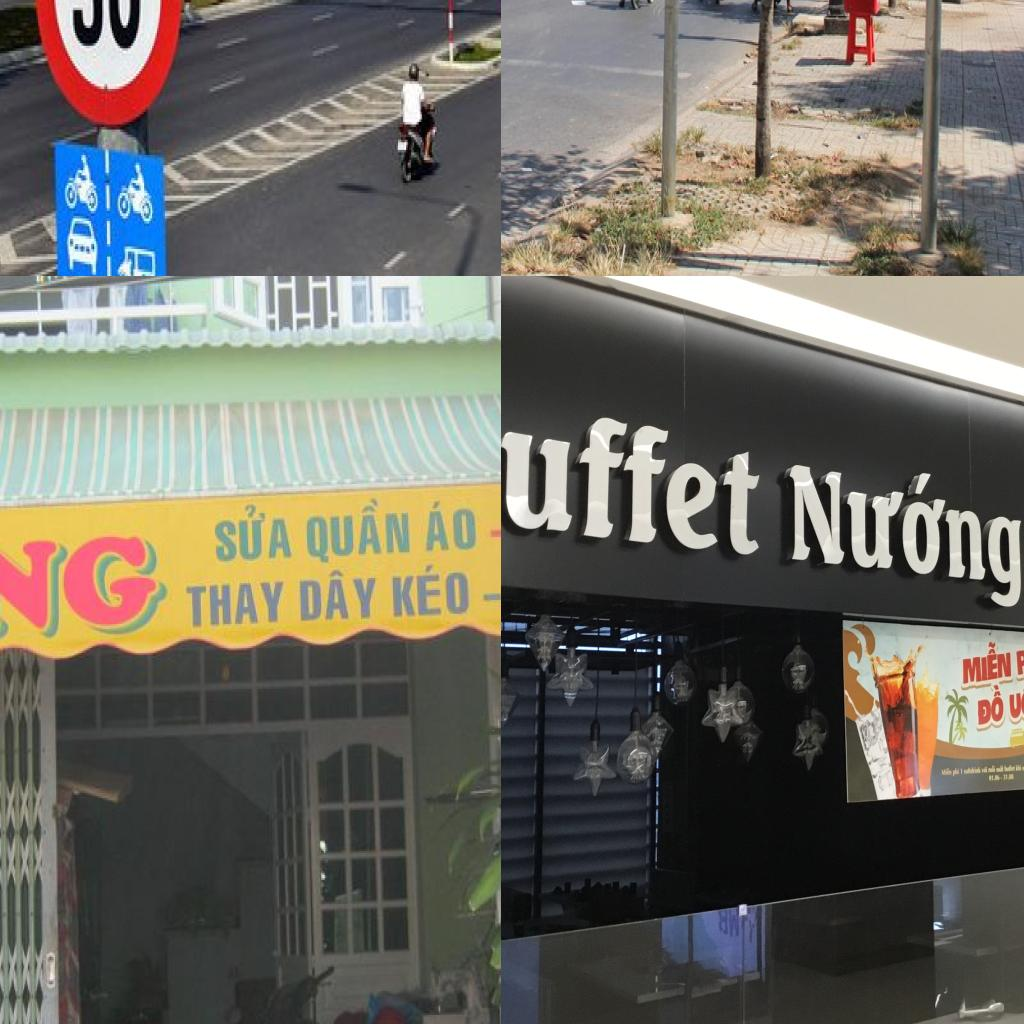text: (501, 381, 767, 563), (786, 447, 1024, 613), (0, 510, 174, 660), (301, 494, 416, 568), (180, 573, 290, 632), (207, 498, 297, 568), (388, 559, 476, 624), (297, 561, 381, 626), (63, 0, 147, 60), (420, 491, 485, 559), (961, 640, 1012, 686), (976, 682, 1004, 727), (1007, 675, 1024, 720), (718, 907, 740, 940), (1014, 641, 1024, 677), (487, 521, 501, 545), (964, 766, 982, 776), (1004, 764, 1016, 773), (988, 774, 1001, 782), (941, 767, 952, 776), (1002, 773, 1014, 781), (988, 764, 996, 774), (996, 764, 1004, 773), (953, 767, 960, 777), (981, 766, 988, 774), (1015, 764, 1022, 772), (1021, 763, 1024, 771), (960, 768, 963, 775)
